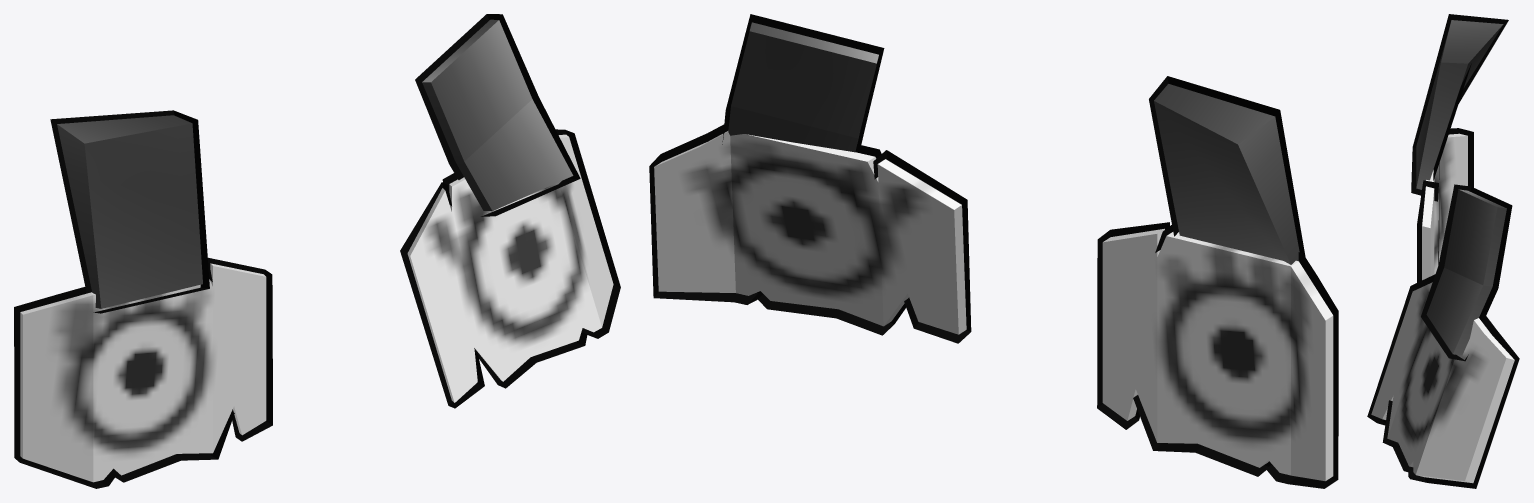
The model's file is 假眼睛.fbx.
The picture shows the model from 3 angles, left to right: view 1: azimuth 30°, elevation 25°; view 2: azimuth 150°, elevation 25°; view 3: azimuth 270°, elevation 25°; orthographic projection. The views are drawn at different scales.
Visible parts, largest first — view 1: 平面.002; view 2: 平面.002; view 3: 平面.002.
Boxes of the visible parts, x1,y1,x2,y2 form: 平面.002: (14, 14, 620, 488); 平面.002: (649, 14, 1338, 488); 平面.002: (1367, 14, 1519, 488).
Bounding box in the file's own units: 0.3264 × 0.1757 × 0.0836.
